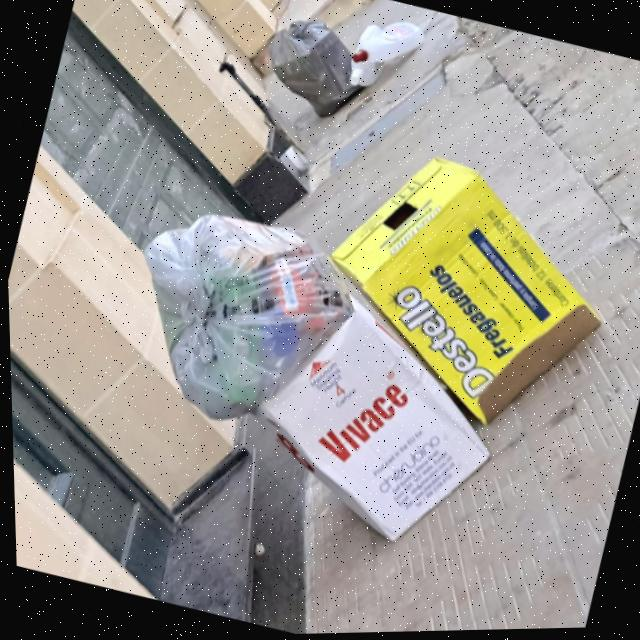Mixed Waste -Black Bag-: (256, 9, 378, 126)
Other: (293, 133, 637, 452), (218, 274, 525, 567), (340, 10, 431, 105)
Recycled Waste -Grey or Green Bag-: (106, 191, 370, 447)
